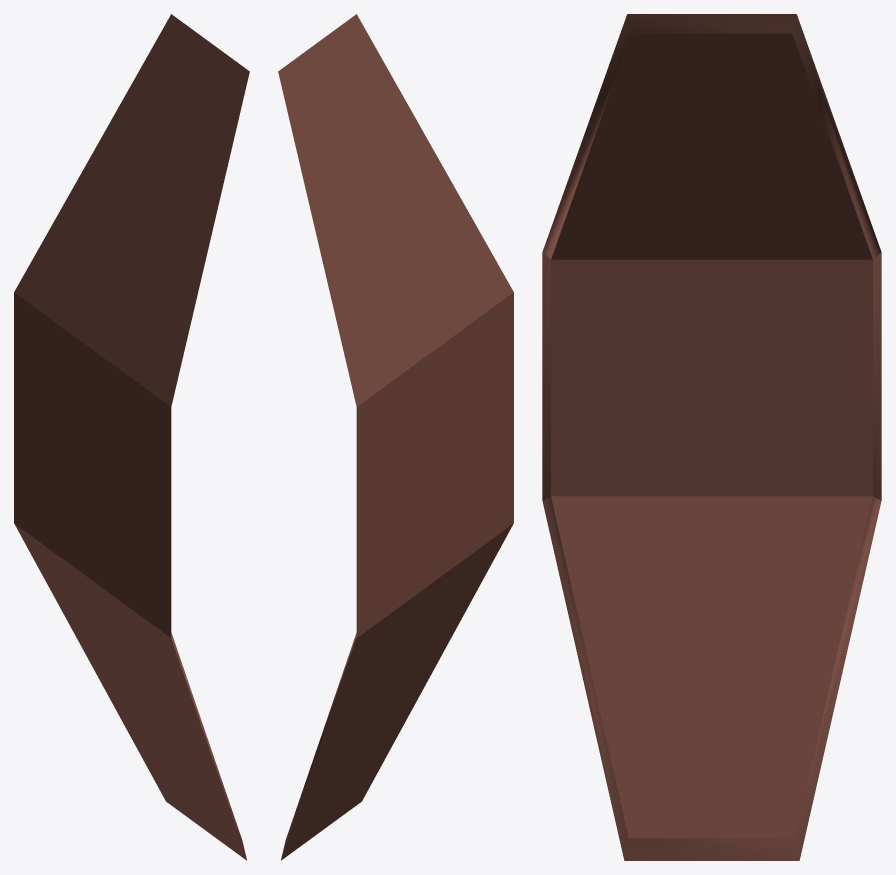
The model's file is potato_peel_collision.obj.
3 views of the same model, side by side, from view 1: azimuth 30°, elevation 25°; view 2: azimuth 150°, elevation 25°; view 3: azimuth 270°, elevation 25° (orthographic). The views are drawn at different scales.
Visible parts, largest first — view 1: avocado.003, avocado.004, avocado; view 2: avocado.003, avocado.004, avocado; view 3: avocado, avocado.004, avocado.003.
Boxes of the visible parts, <box> form: avocado.003: <box>14,14,249,406</box>; avocado.004: <box>14,292,171,637</box>; avocado: <box>14,524,246,860</box>; avocado.003: <box>278,14,513,406</box>; avocado.004: <box>356,292,513,637</box>; avocado: <box>281,524,513,860</box>; avocado: <box>542,496,881,860</box>; avocado.004: <box>542,252,881,500</box>; avocado.003: <box>542,14,881,259</box>.
Bounding box in the file's own units: 0.0375 × 0.2396 × 0.0867.
